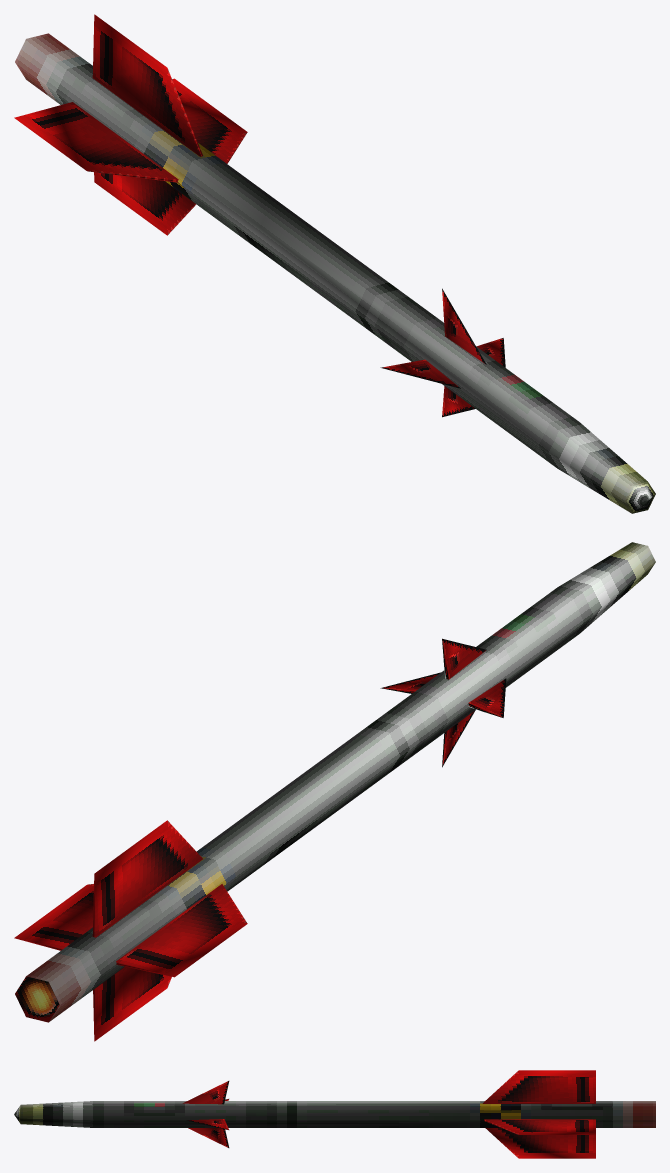
The model's file is mis05.glb.
3 renders of one model, top to bottom at view 1: azimuth 30°, elevation 25°; view 2: azimuth 150°, elevation 25°; view 3: azimuth 270°, elevation 25°, orthographic. The views are drawn at different scales.
Parts seen in each view (by area): view 1: mis05; view 2: mis05; view 3: mis05.
Boxes of the visible parts, x1,y1,x2,y2 form: mis05: (14, 14, 655, 513); mis05: (14, 542, 655, 1041); mis05: (14, 1070, 655, 1158).
Bounding box in the file's own units: 1.73 × 1.73 × 11.35.
Materials: 1 (1 with a texture image).
